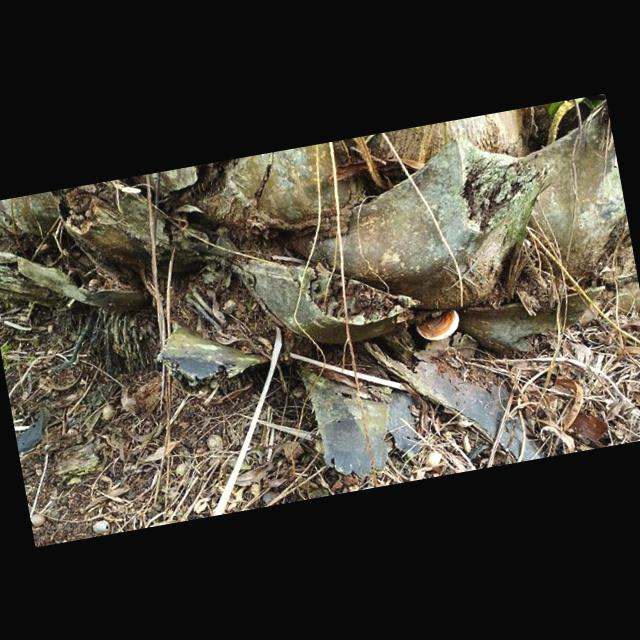ganoderma: (413, 306, 462, 346)
